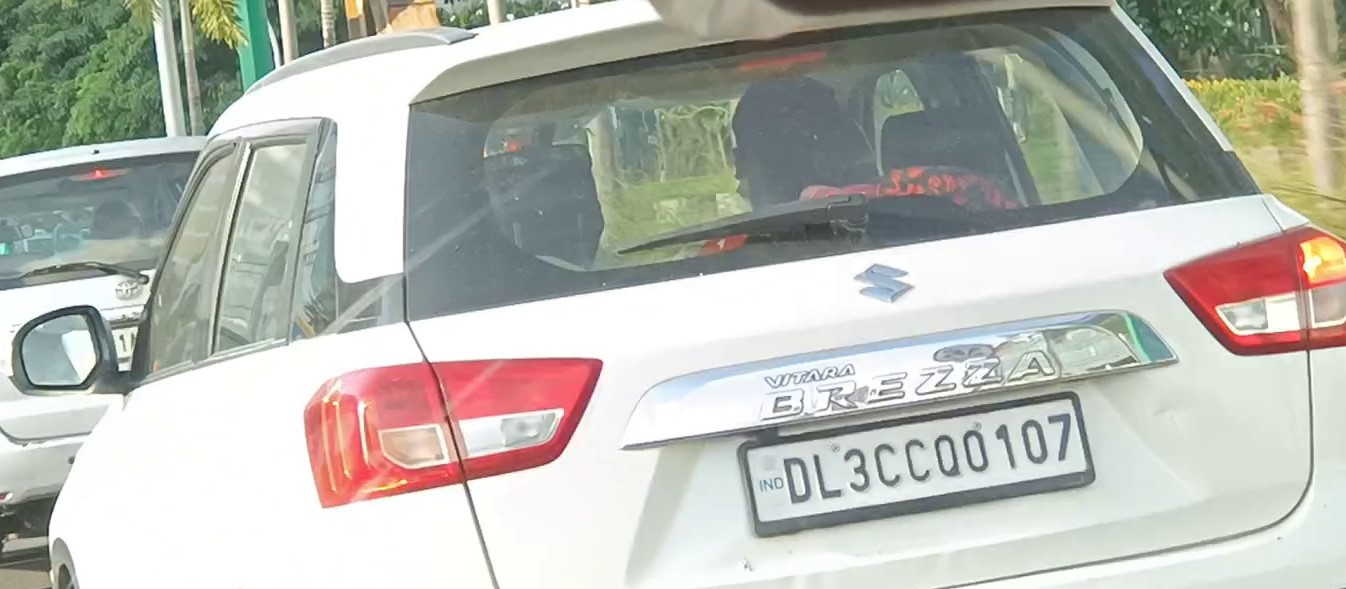DL3CCQ0107: (746, 400, 1090, 525)
